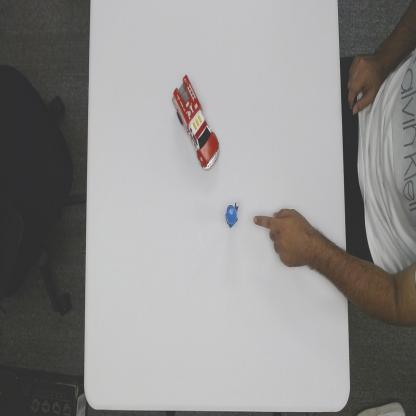Arm: (307, 222, 346, 300)
Firetruck: (170, 75, 221, 174)
Hand: (253, 207, 307, 269)
